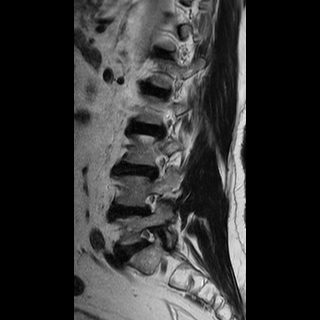LFS0: (136, 185, 164, 221), (146, 149, 172, 185), (133, 220, 161, 251)
